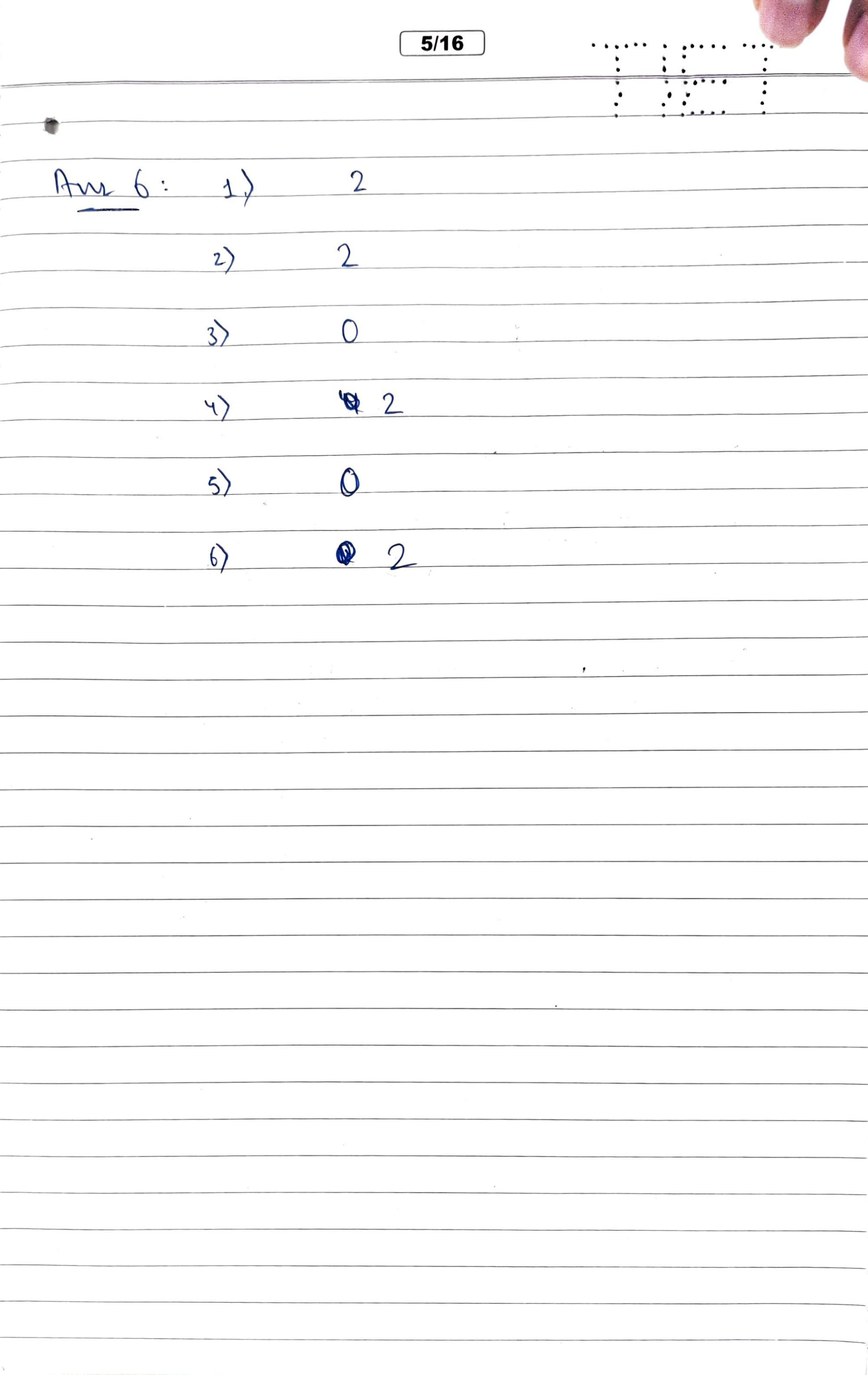cuttings: (338, 389, 366, 416), (335, 540, 357, 566)
